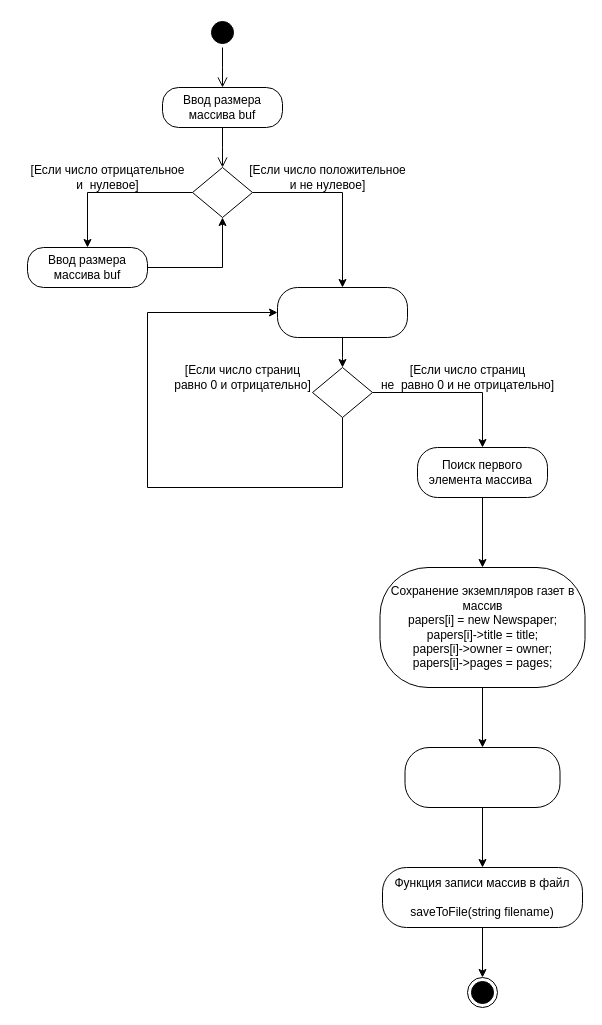
The diagram is 602 pixels wide and 1025 high, and some of its shapes have lost their labels. The centre of each missing label's shape, as x and y in pixels:
"Ввод данных пользователем title, owner, pages" belongs at (342,312).
"Функция сортировки Массив сортируется sortNewspapers()" belongs at (482,777).
